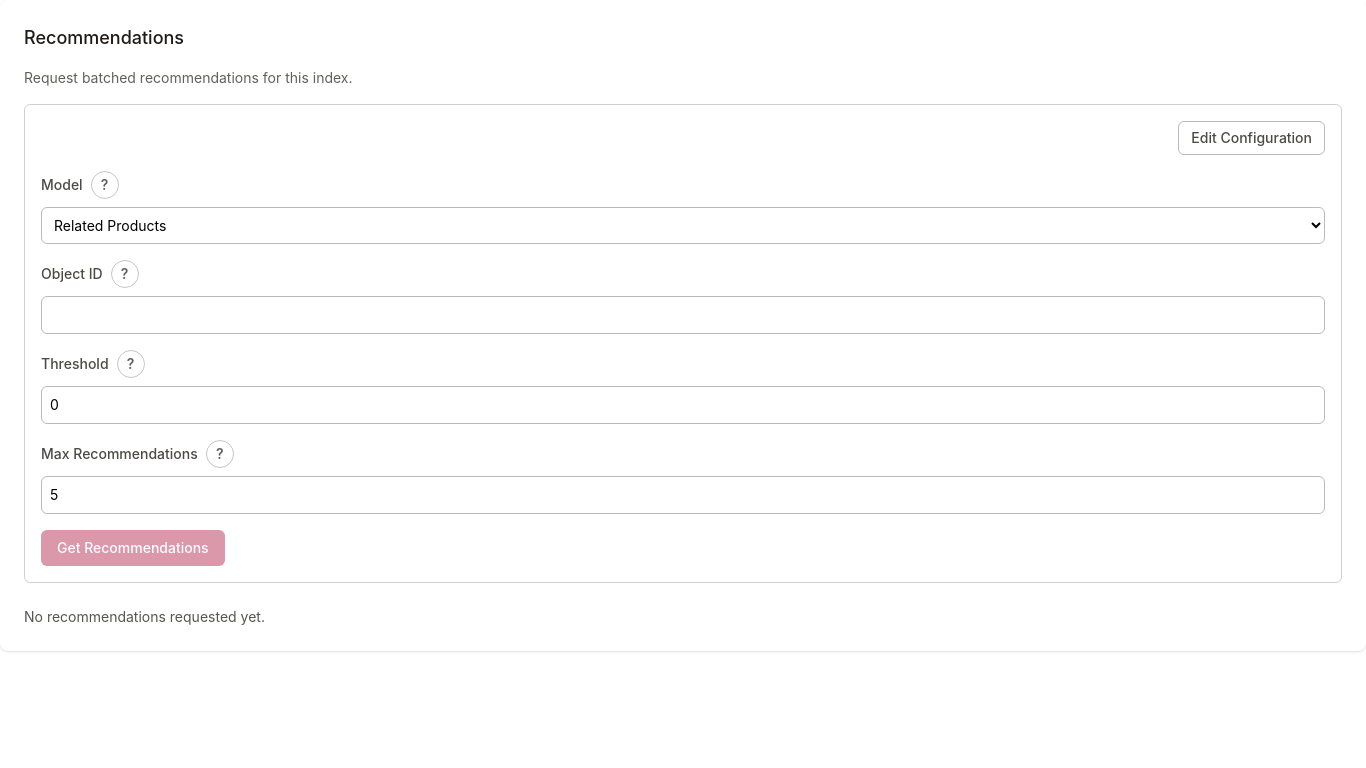
Scenario: RecommendationsTab › edit dialog saves into the same inline configuration state without submitting
Click the button "Edit Configuration" at (1252, 138), box [1178, 121, 1325, 155]
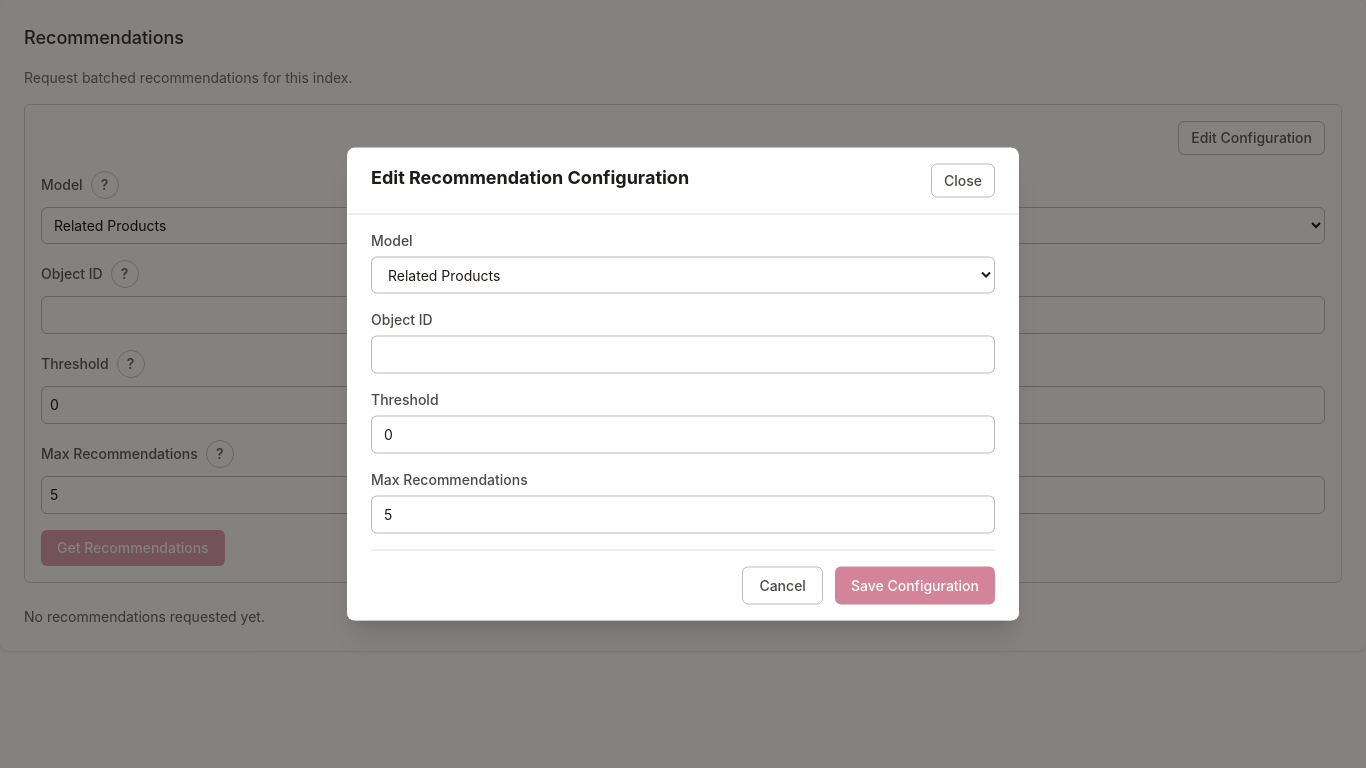
Select "Trending Facets" in the dropdown labelled "Model" at (683, 275), box [371, 256, 995, 294]
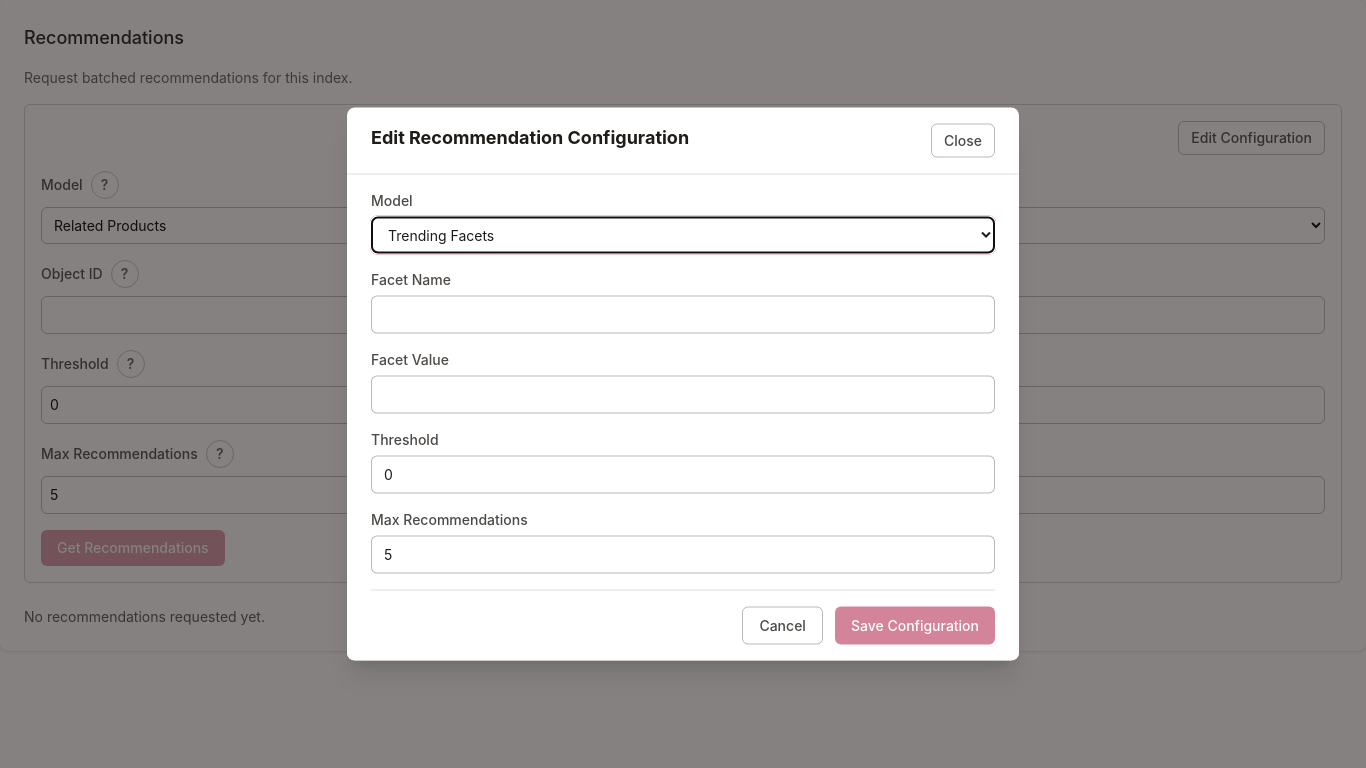
Type "brand" into the field labelled "Facet Name" at (683, 314), box [371, 296, 995, 334]
Type "Apple" into the field labelled "Facet Value" at (683, 394), box [371, 376, 995, 414]
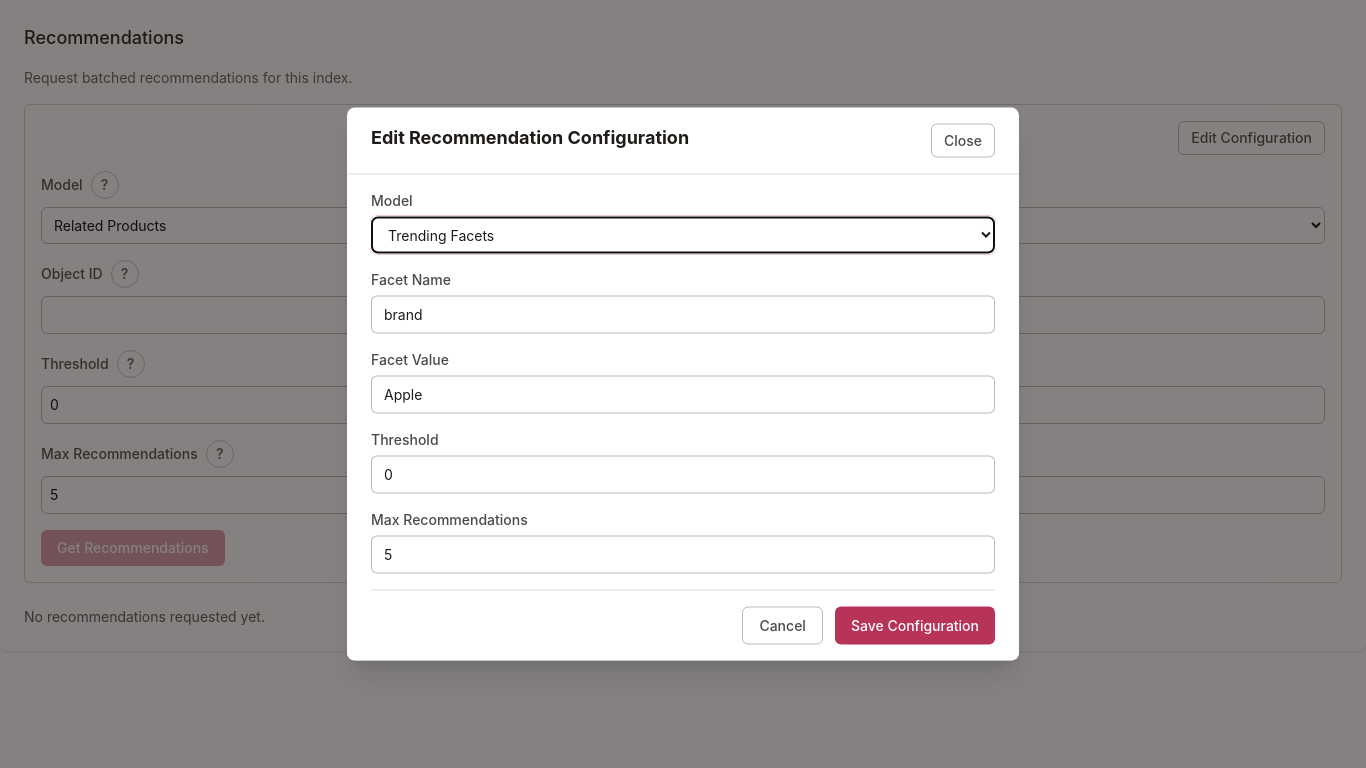
Replace the text in the number field labelled "Threshold" with "12" at (683, 474), box [371, 456, 995, 494]
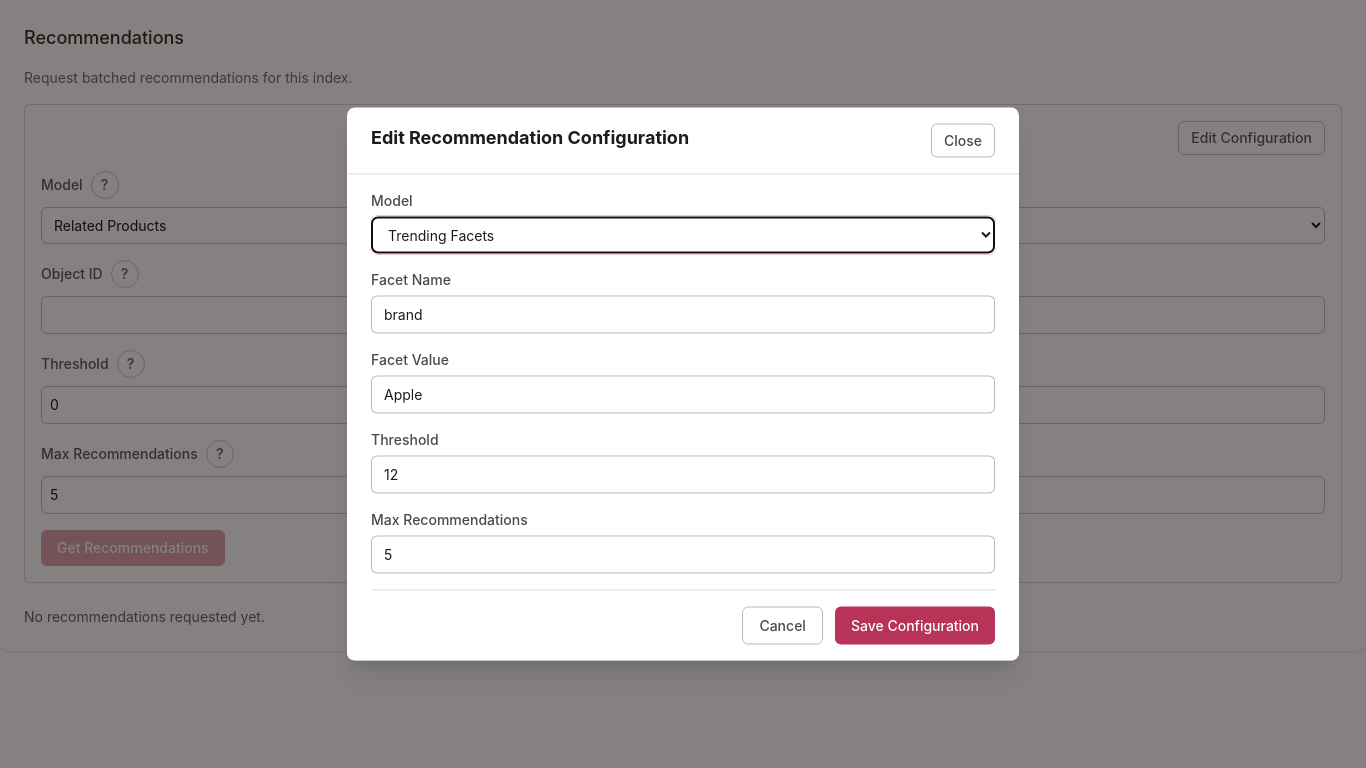
Replace the text in the number field labelled "Max Recommendations" with "9" at (683, 554), box [371, 536, 995, 574]
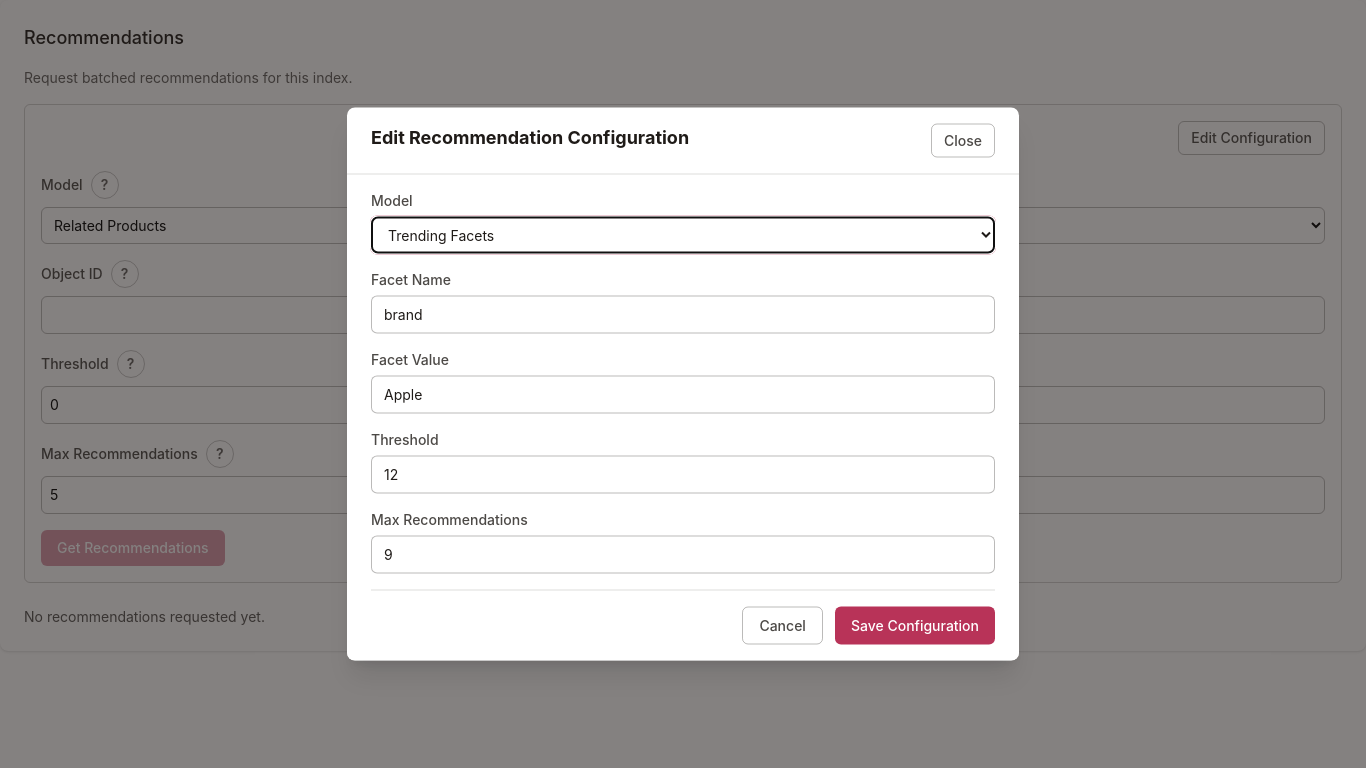
Click the button with test id "editor-dialog-save" at (915, 626), box [835, 606, 995, 644]
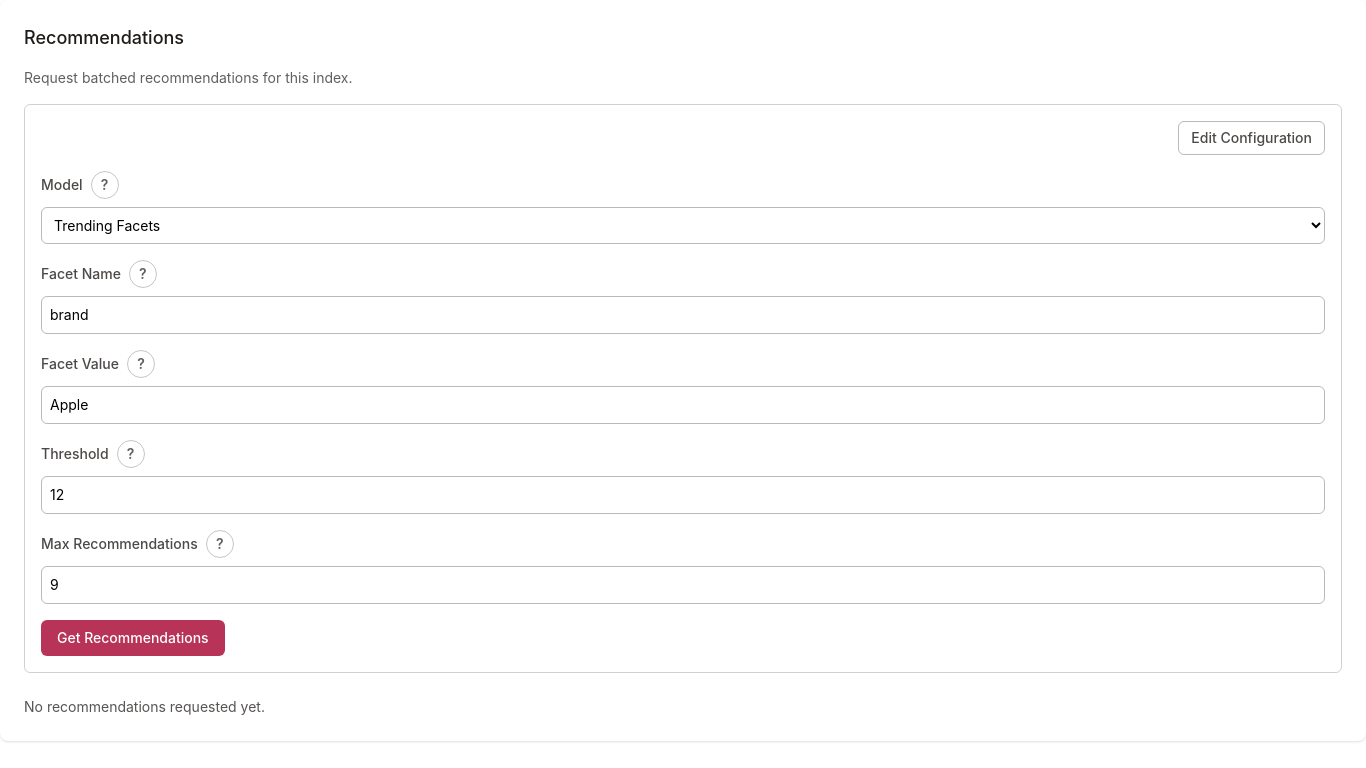
Check: the dialog with test id "recommendations-edit-dialog" is gone
Check: the dropdown with test id "recommendations-model-select" shows "Trending Facets", box [41, 207, 1325, 244]
Check: the field labelled "Facet Name" holds "brand", box [41, 296, 1325, 334]
